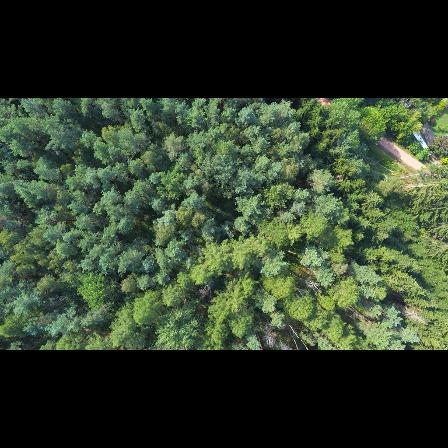Dead: (402, 308, 427, 328), (261, 326, 280, 349), (303, 275, 323, 295), (198, 280, 214, 299)
